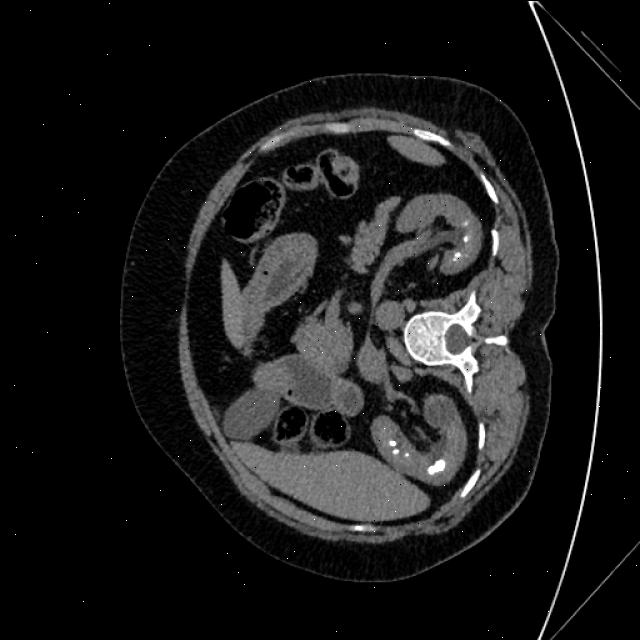kidneystone: (428, 458, 446, 475), (450, 250, 462, 262), (389, 439, 396, 446), (462, 235, 468, 242), (392, 448, 399, 453)
